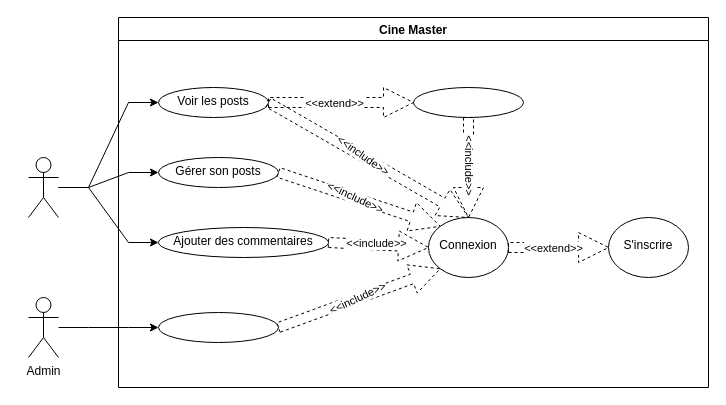
Some shapes in this 726 by 405 pixel diagram are drawn without their labels. The shapes that lost their labels are listed below. From the top down, each one's centre as x and y in pixels, then its label:
At (468,102): "réagir aux posts".
At (43,187): "Utilisateur".
At (218,327): "gérer les utilisateurs".
